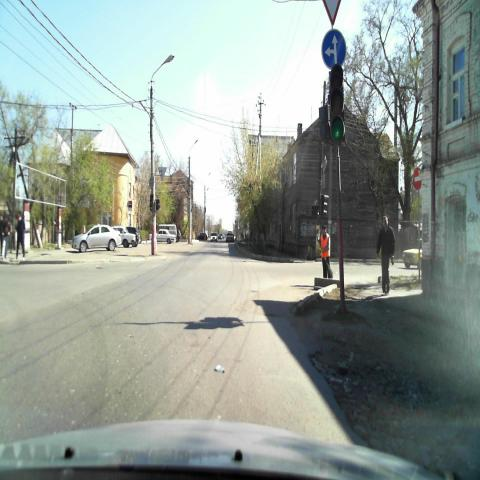4_1_5: (320, 28, 347, 71)
